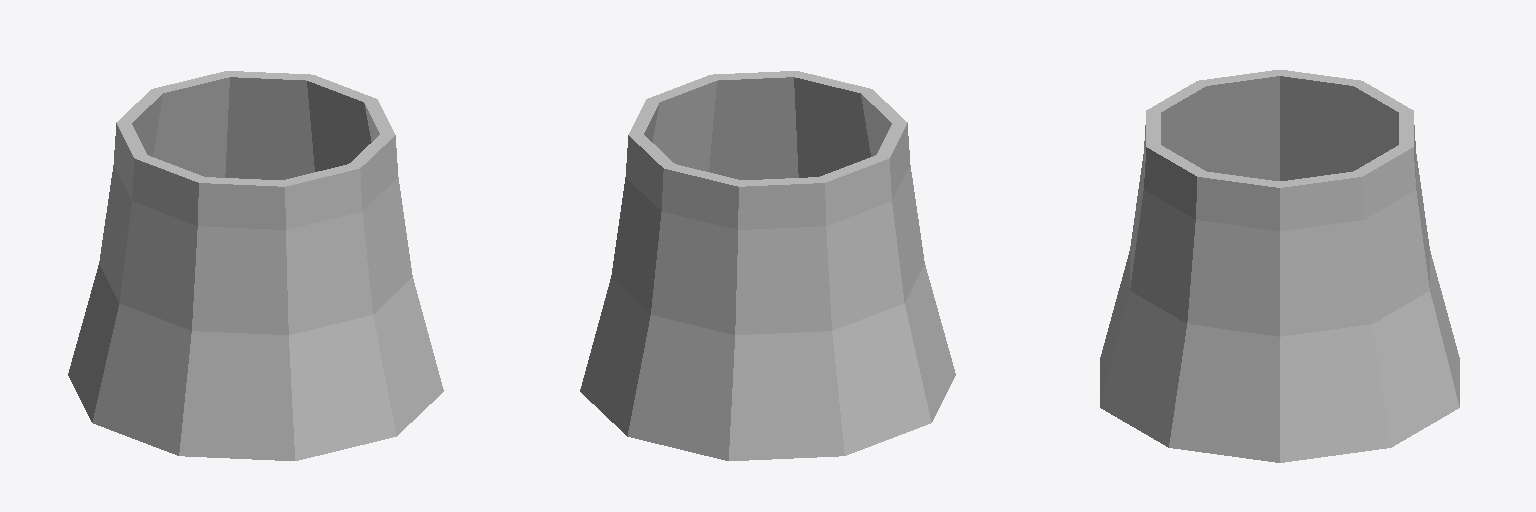
The model's file is LampShade.obj.
The picture shows the model from 3 angles: view 1: azimuth 30°, elevation 25°; view 2: azimuth 150°, elevation 25°; view 3: azimuth 270°, elevation 25°; orthographic projection.
Parts seen in each view (by area): view 1: LampShade; view 2: LampShade; view 3: LampShade.
Boxes of the visible parts, <box> form: LampShade: <box>68,71,443,460</box>; LampShade: <box>580,71,955,460</box>; LampShade: <box>1100,70,1459,462</box>.
Size of the model in its own units: 4 by 2.97 by 3.81.